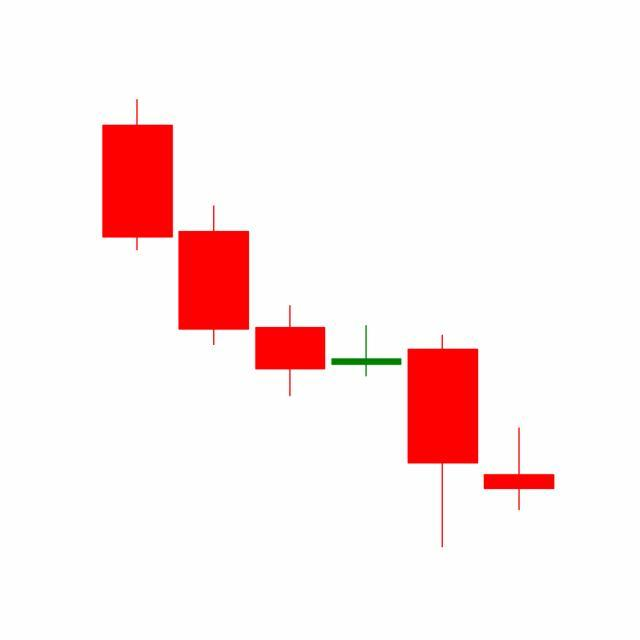Three Outside Up-Down: (326, 322, 555, 549)
